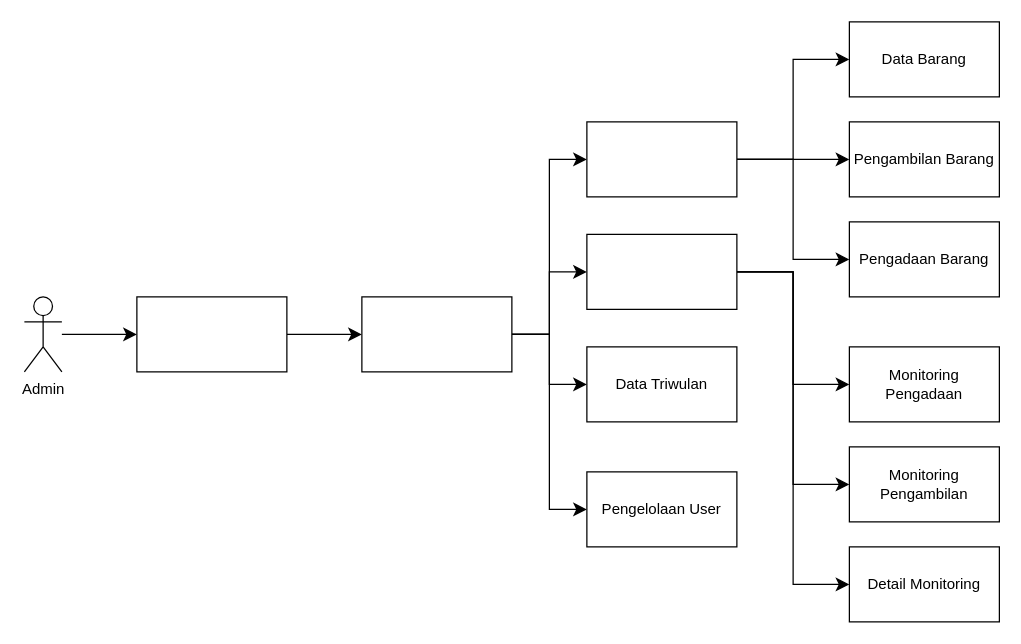
Some shapes in this 1021 by 644 pixel diagram are drawn without their labels. Here are the shapes that lost their labels. From the top down, the centre of each, then its label:
point (661, 159): Manajemen Barang
point (661, 271): Monitoring Barang
point (211, 334): Halaman Login
point (436, 334): Halaman Dashboard Admin
